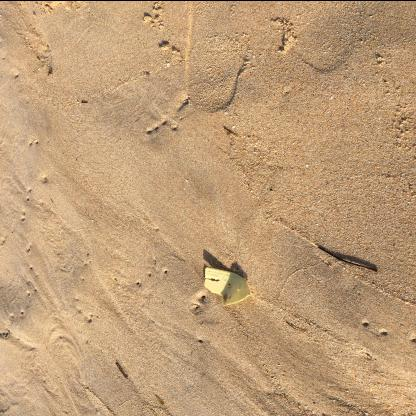kopuk: (204, 266, 250, 305)
